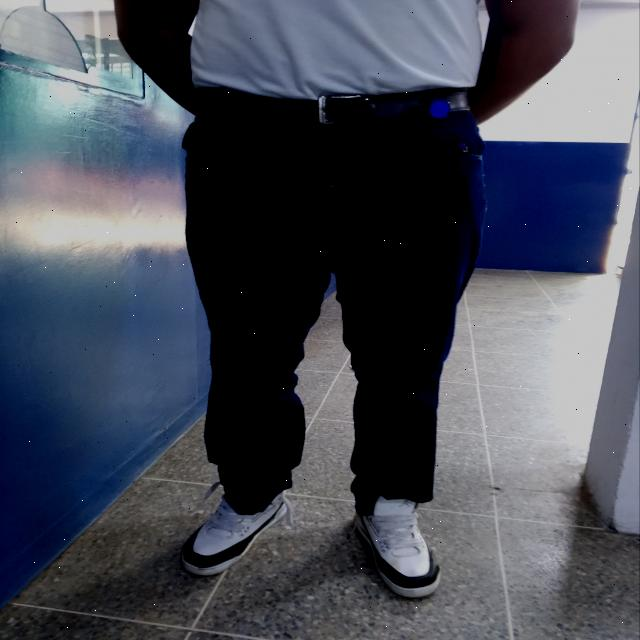pantalon_oscuro: (180, 108, 492, 518)
